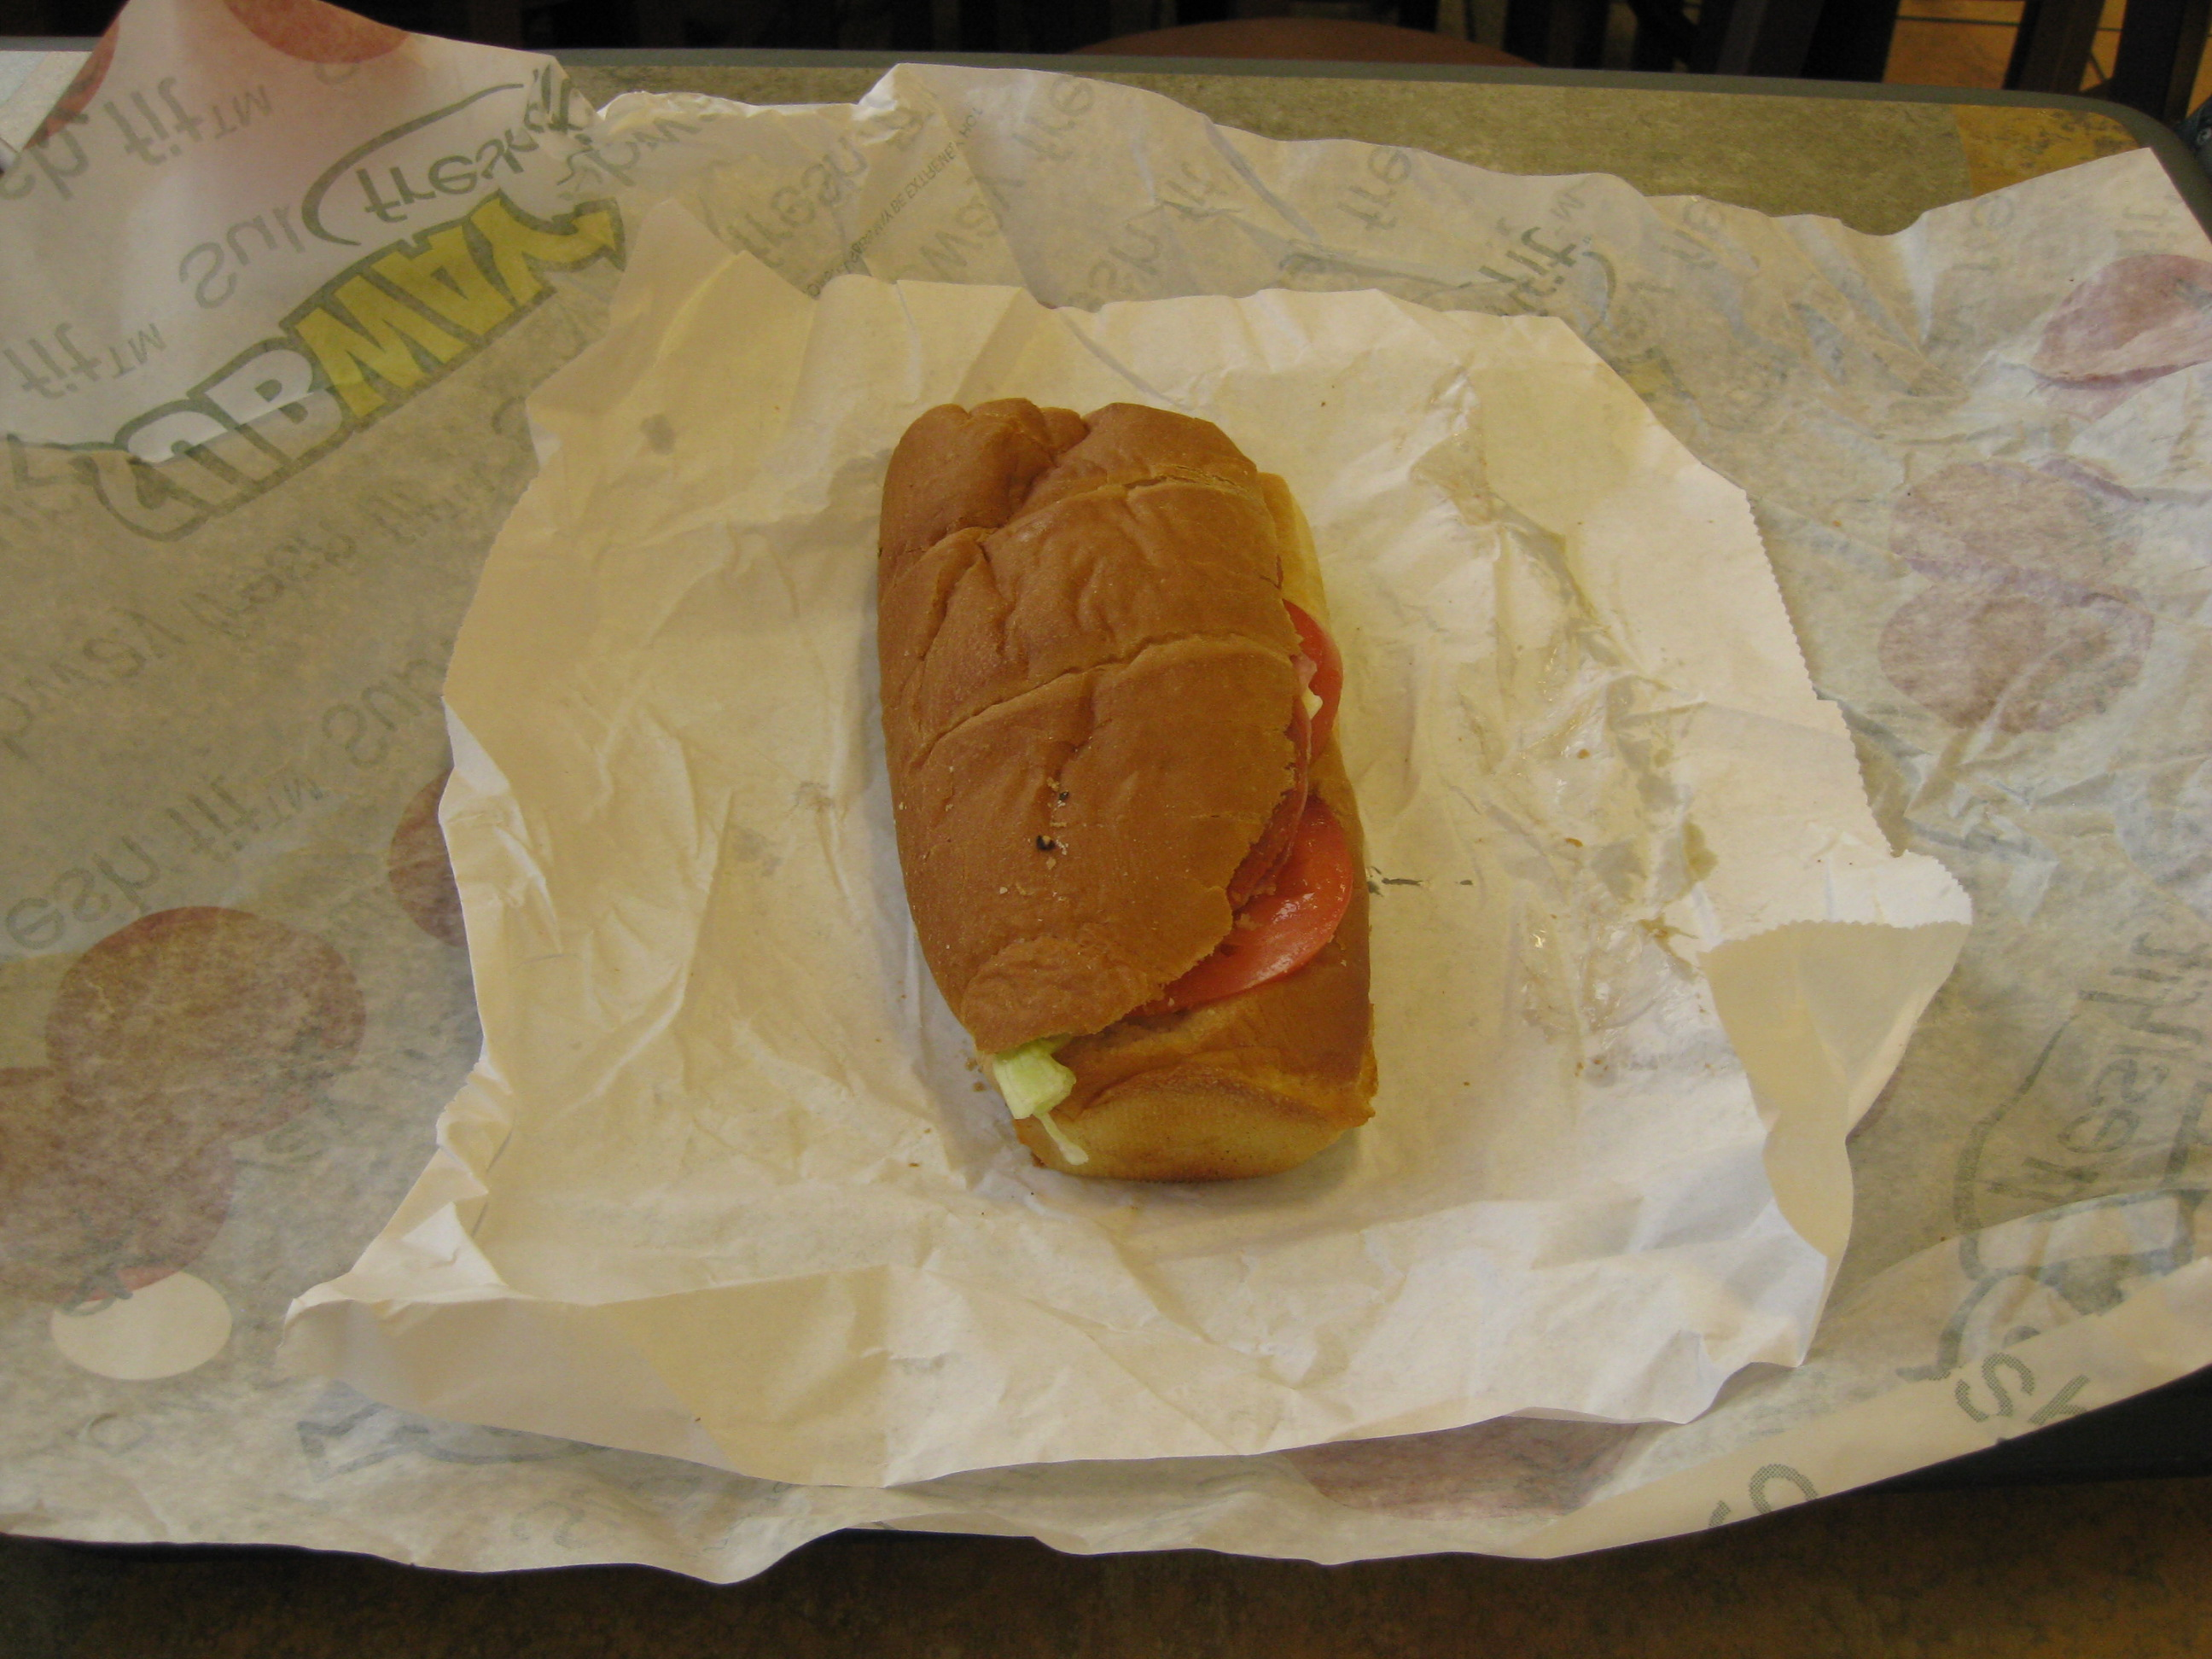sub: (853, 378, 1434, 1185)
